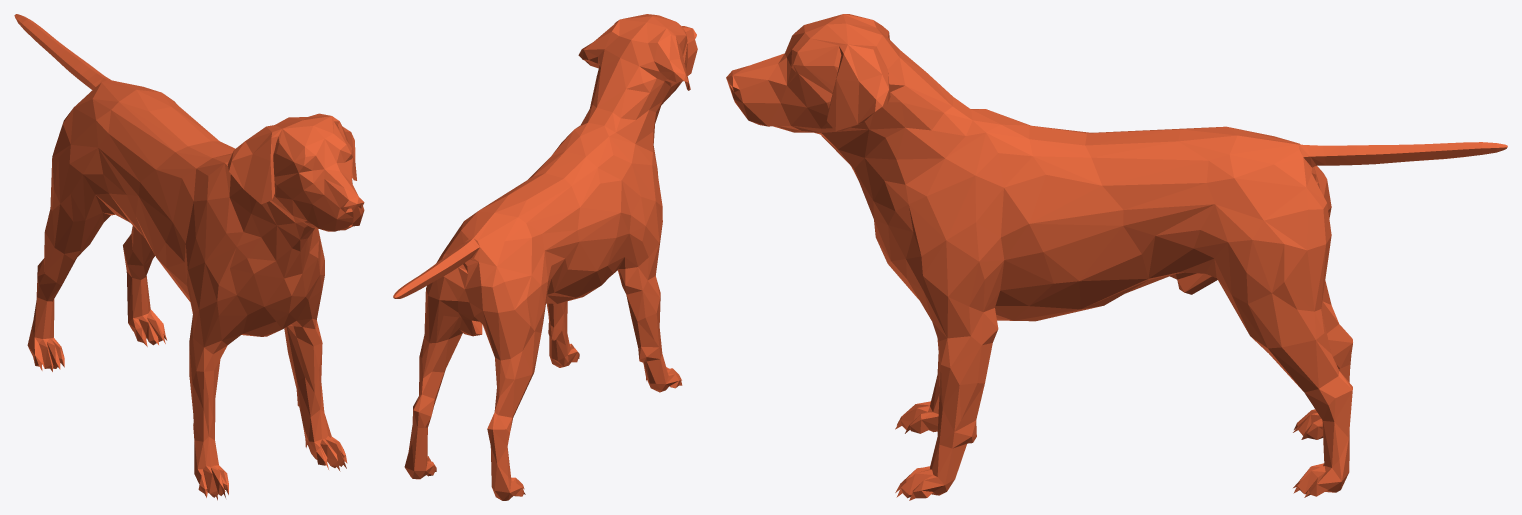
Rendered from dog.gltf.
The picture shows the model from 3 angles, left to right: view 1: azimuth 30°, elevation 25°; view 2: azimuth 150°, elevation 25°; view 3: azimuth 270°, elevation 25°; orthographic projection. The views are drawn at different scales.
Parts seen in each view (by area): view 1: Dog_Coat_0.001; view 2: Dog_Coat_0.001; view 3: Dog_Coat_0.001.
Boxes of the visible parts, x1,y1,x2,y2 form: Dog_Coat_0.001: (14, 14, 364, 500); Dog_Coat_0.001: (393, 14, 697, 500); Dog_Coat_0.001: (726, 14, 1507, 500).
Size of the model in its own units: 1.75 by 4.45 by 7.16.
